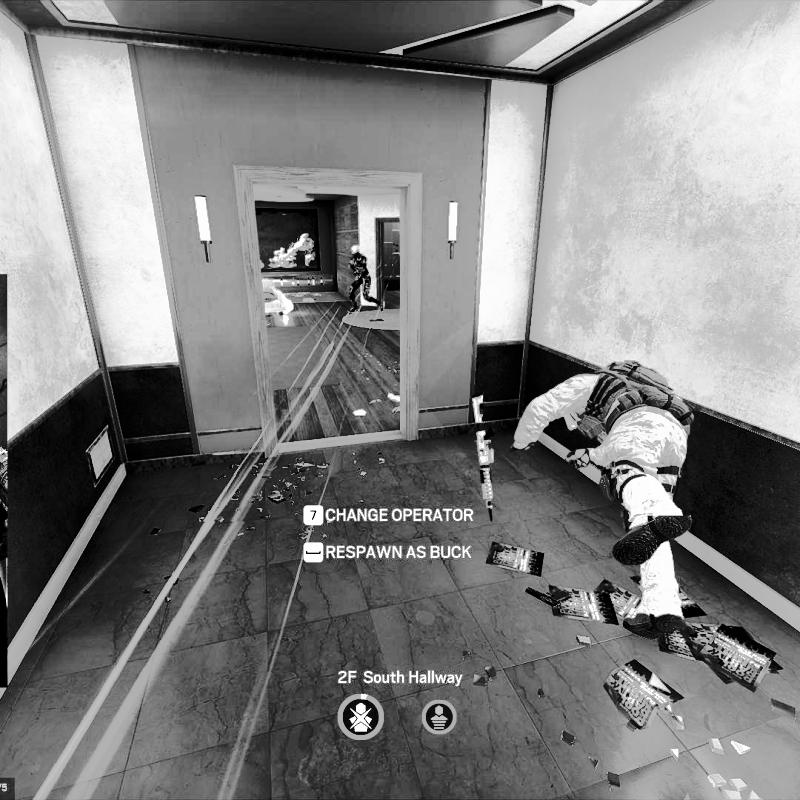Character: (513, 353, 702, 643), (346, 243, 385, 316)
Head: (350, 244, 361, 257)
